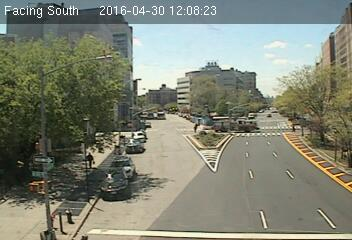neg: (267, 145, 300, 190), (9, 175, 41, 217), (47, 138, 78, 179), (167, 45, 197, 84), (323, 178, 351, 217), (50, 4, 78, 41), (116, 105, 142, 140), (301, 65, 326, 98), (35, 62, 59, 95), (145, 213, 165, 239), (202, 154, 219, 176), (51, 208, 67, 230), (117, 164, 133, 186), (317, 133, 332, 153), (78, 192, 92, 210), (219, 58, 232, 76), (252, 65, 265, 83), (252, 111, 264, 127), (241, 101, 249, 112), (158, 110, 166, 120)
pos: (82, 151, 98, 172), (191, 123, 201, 137)
